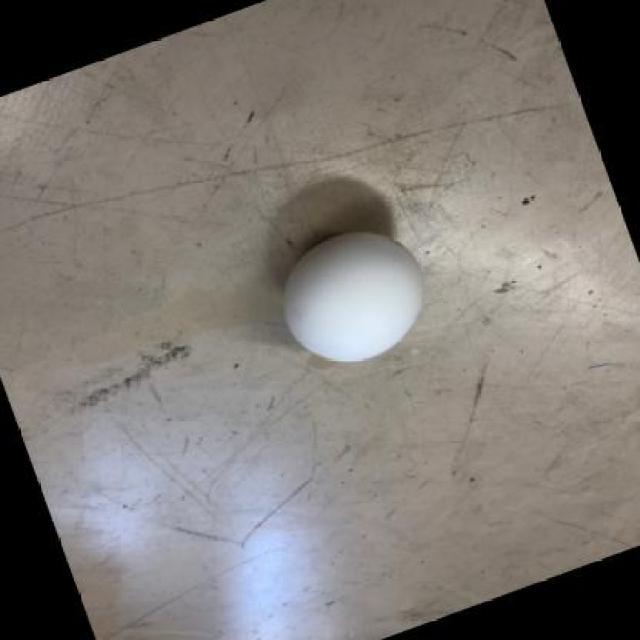egg: (277, 221, 430, 369)
